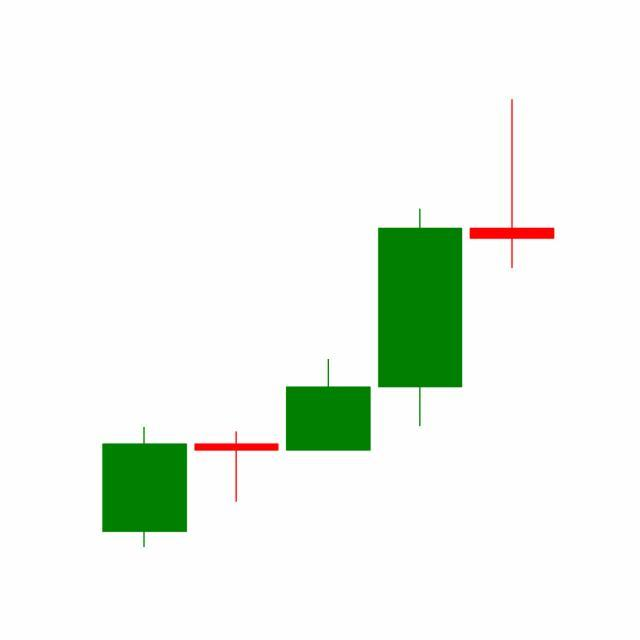Spinning Top: (466, 98, 559, 272)
